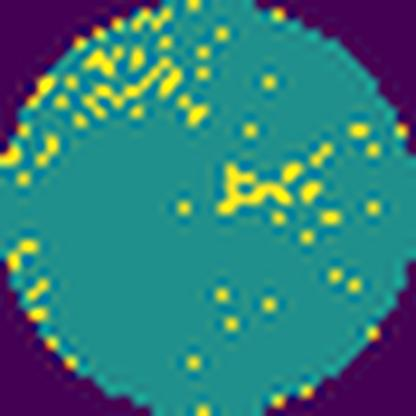Loc: (82, 50, 184, 121), (210, 164, 300, 219)
